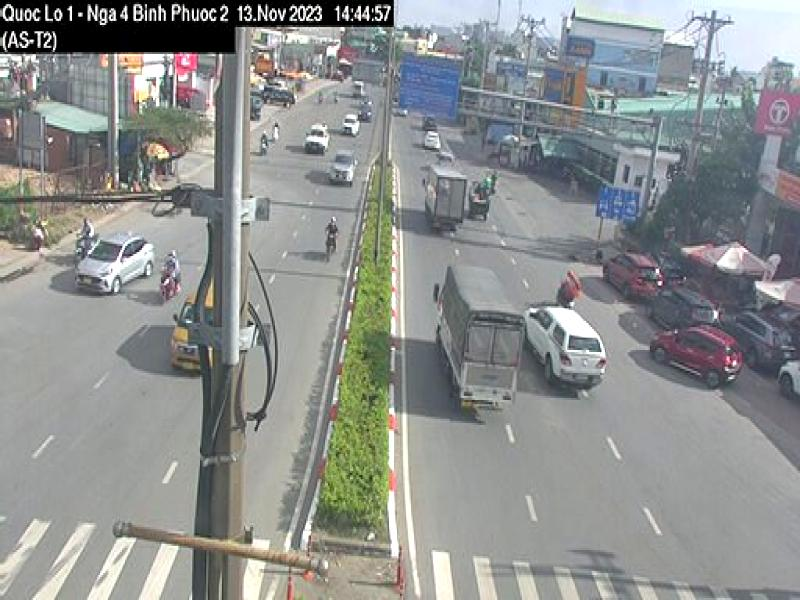truck: (431, 260, 523, 410)
